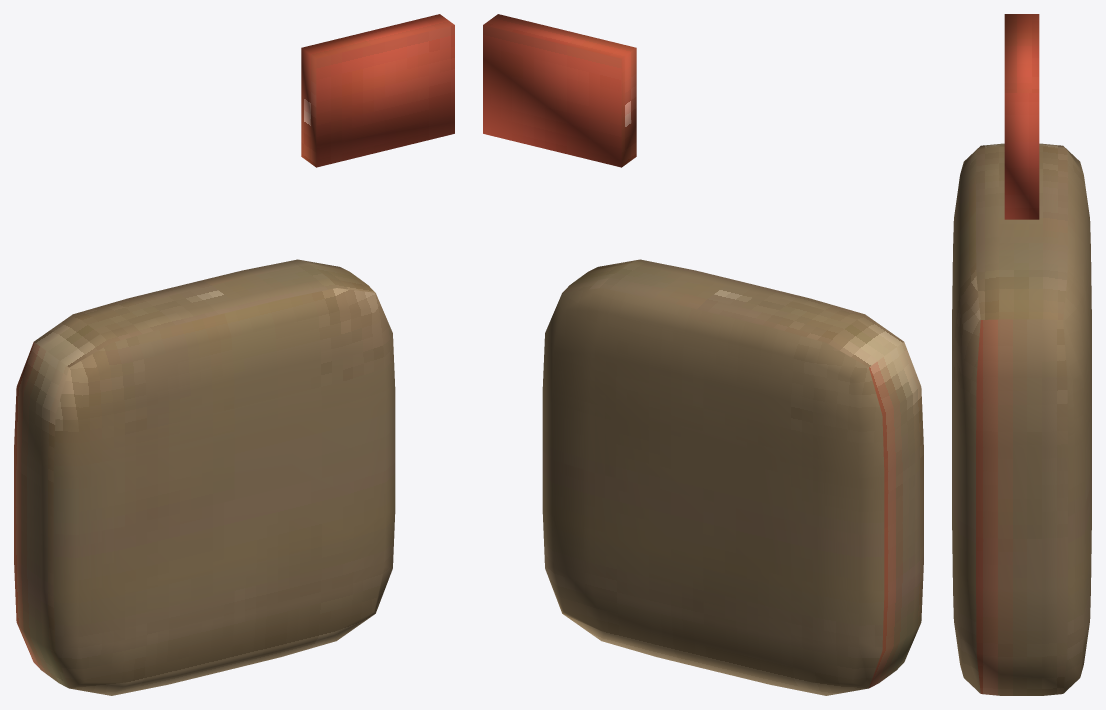
File: pellet_milktea.glb
The picture shows the model from 3 angles, left to right: view 1: azimuth 30°, elevation 25°; view 2: azimuth 150°, elevation 25°; view 3: azimuth 270°, elevation 25°; orthographic projection. The views are drawn at different scales.
Visible parts, largest first — view 1: prop_pellet_milktea_felt; view 2: prop_pellet_milktea_felt; view 3: prop_pellet_milktea_felt.
Boxes of the visible parts, <box> form: prop_pellet_milktea_felt: <box>14,14,454,695</box>; prop_pellet_milktea_felt: <box>483,14,923,695</box>; prop_pellet_milktea_felt: <box>952,14,1091,695</box>.
Size of the model in its own units: 0.072 by 0.096 by 0.018.
1 material, 1 textured.
